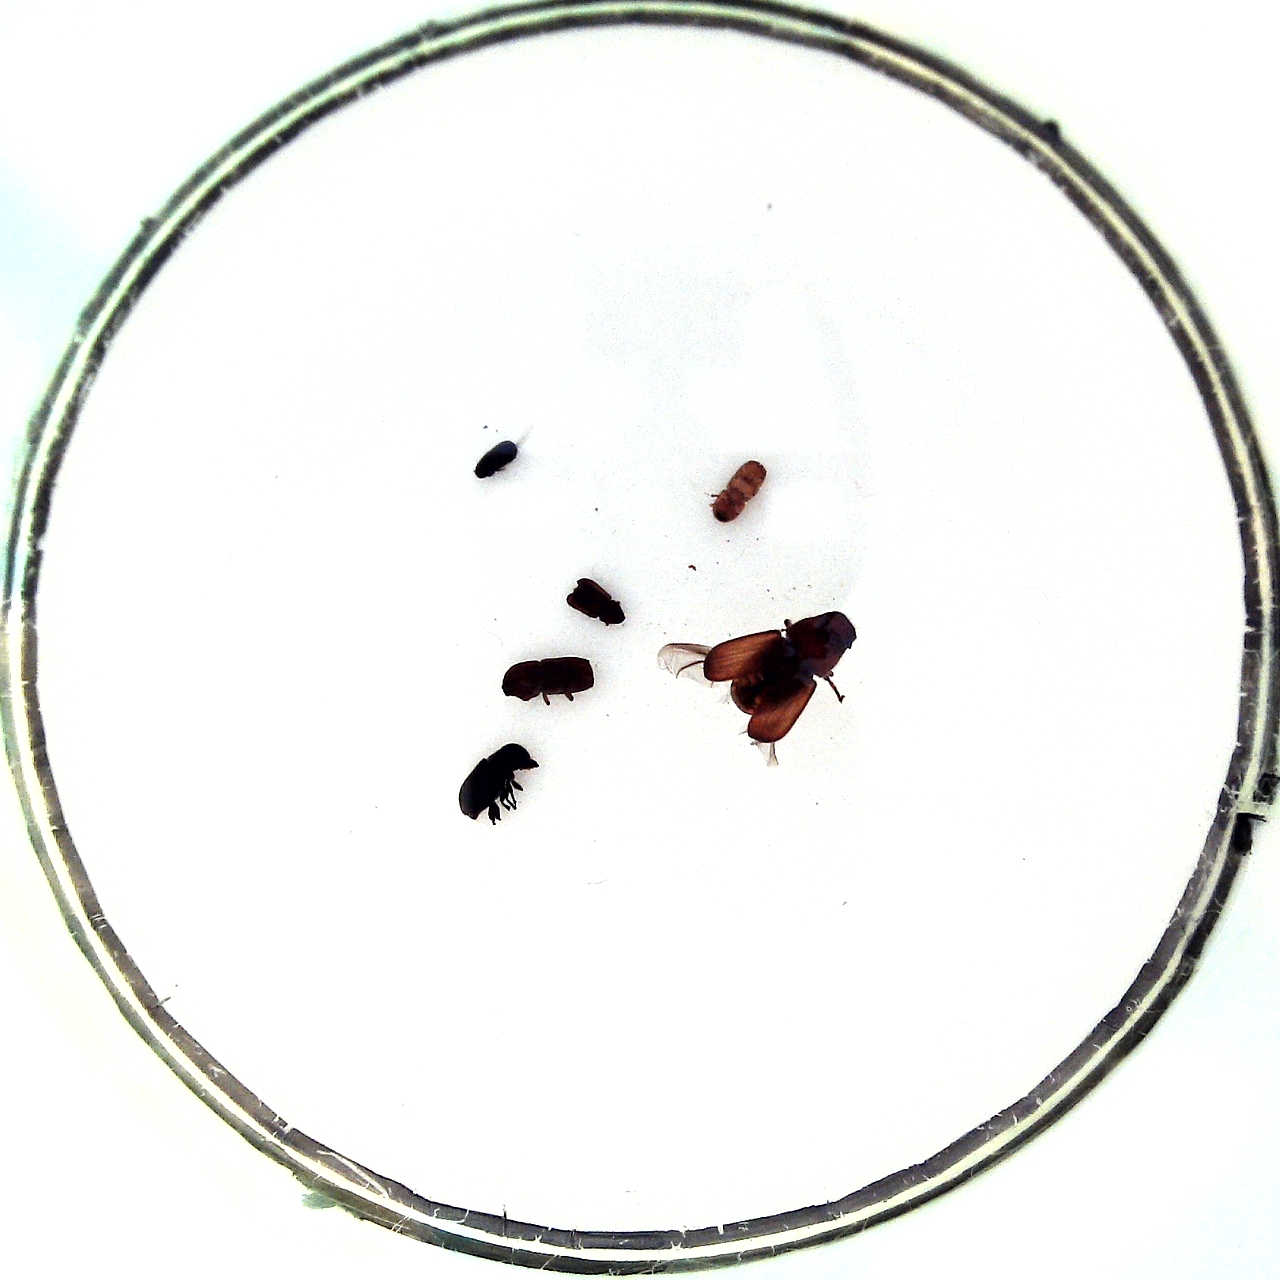Leconte: (702, 611, 858, 742)
acuminatus: (474, 440, 518, 479)
armandi: (459, 743, 540, 821)
coleoptera: (712, 461, 765, 522), (567, 578, 626, 626)
linnaeus: (502, 658, 595, 701)
